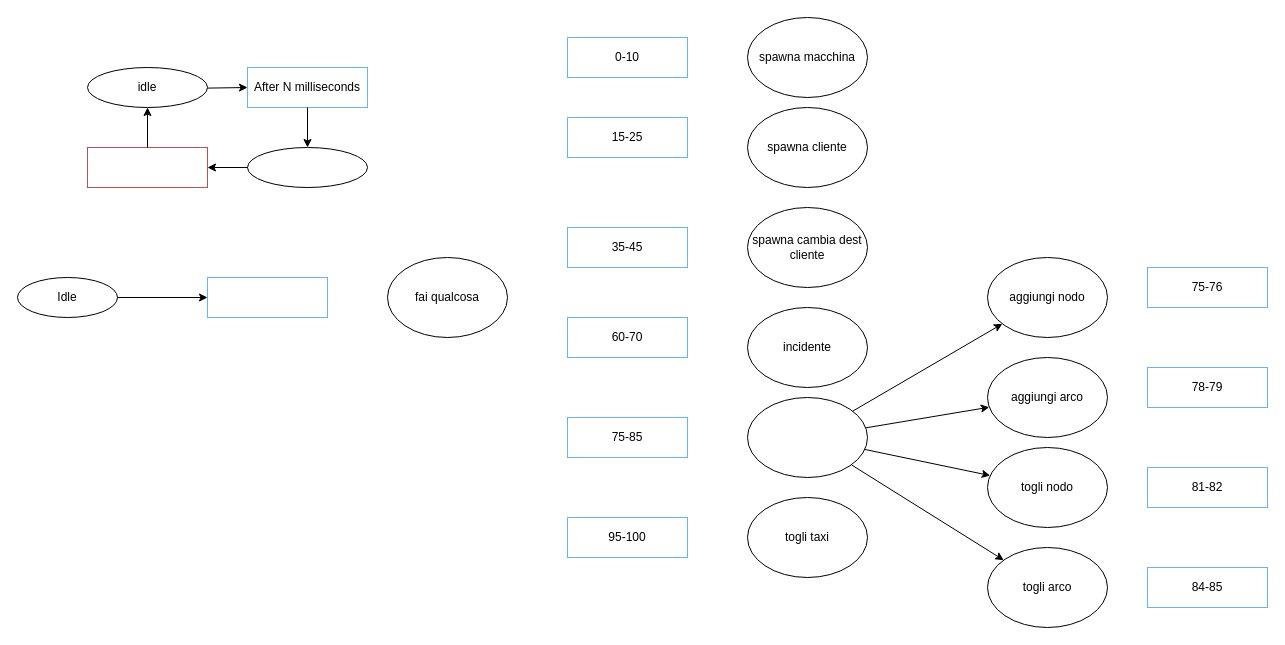
Some shapes in this 1285 by 645 pixel diagram are drawn without their labels. Here are the shapes that lost their labels. From the top down, the centre of each, then its label:
At (x=147, y=167): "EV | Tick".
At (x=307, y=167): "notify_automata".
At (x=267, y=297): "CLK | Tick".
At (x=807, y=437): "modifica mappa".
